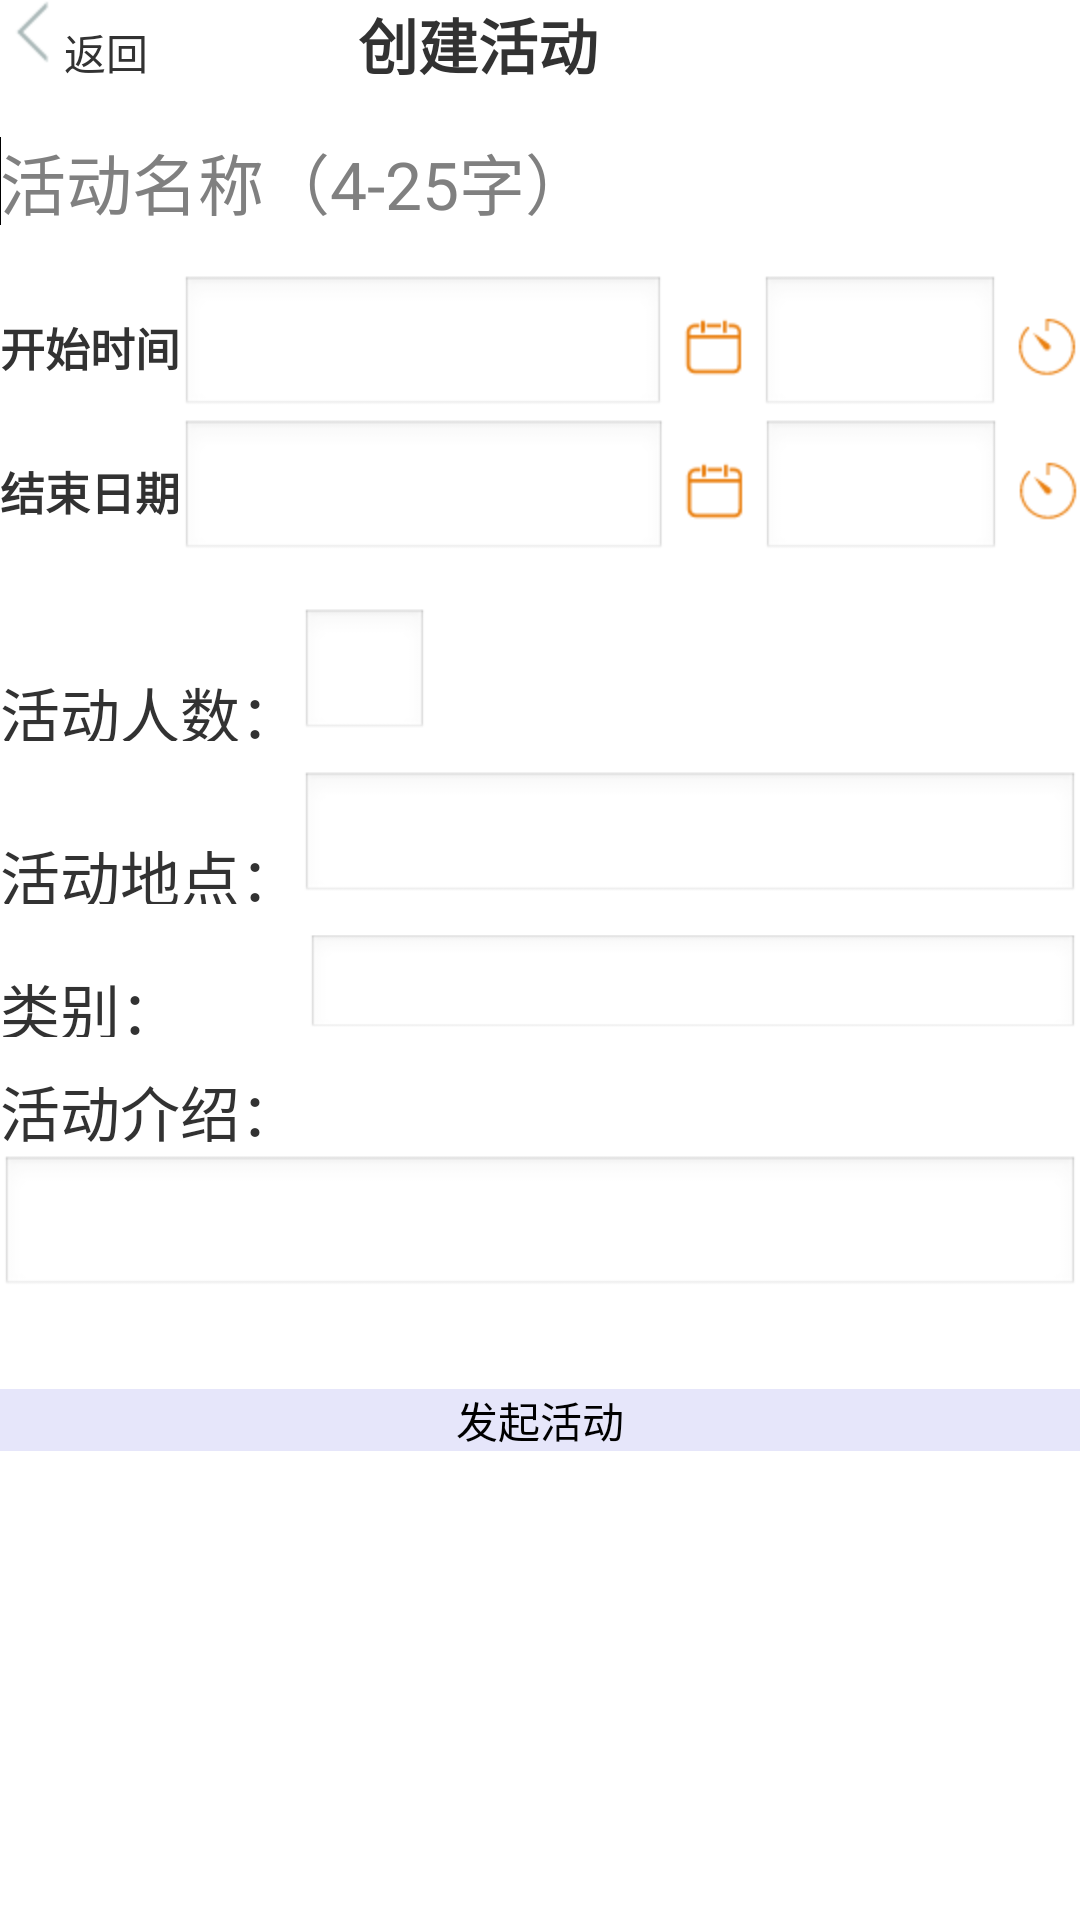

Locate icon controls on the screen. Image size 1080w x 1920h, boxes as detection(x1, y1, x2, y2).
arrow: detection(17, 3, 48, 61)
time: detection(1018, 318, 1076, 376), detection(1019, 462, 1077, 520)
